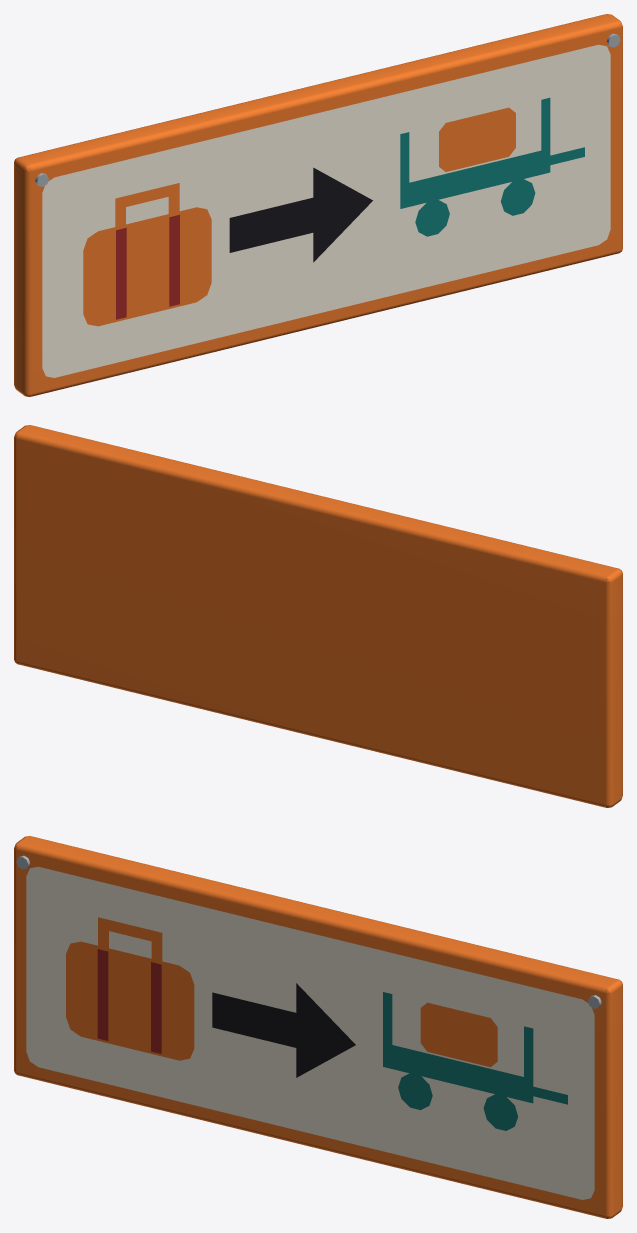
The model's file is CartelMaletas.fbx.
3 views of the same model, one above another, from view 1: azimuth 30°, elevation 25°; view 2: azimuth 150°, elevation 25°; view 3: azimuth 330°, elevation 25° (orthographic).
Visible parts, largest first — view 1: CartelMaletas; view 2: CartelMaletas; view 3: CartelMaletas.
Part boxes in pixels (x1,y1,x2,y2): CartelMaletas: [14, 14, 622, 396]; CartelMaletas: [14, 425, 622, 807]; CartelMaletas: [14, 836, 622, 1218].
Bounding box in the file's own units: 7 × 2.6 × 0.36.
Materials: 1 (1 with a texture image).
